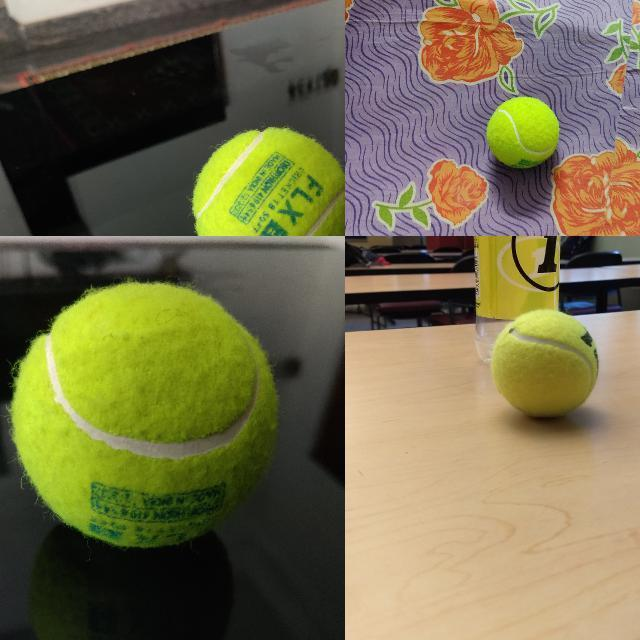tennis-ball: (10, 281, 278, 550), (190, 125, 344, 235), (490, 308, 599, 419), (486, 97, 559, 168)
